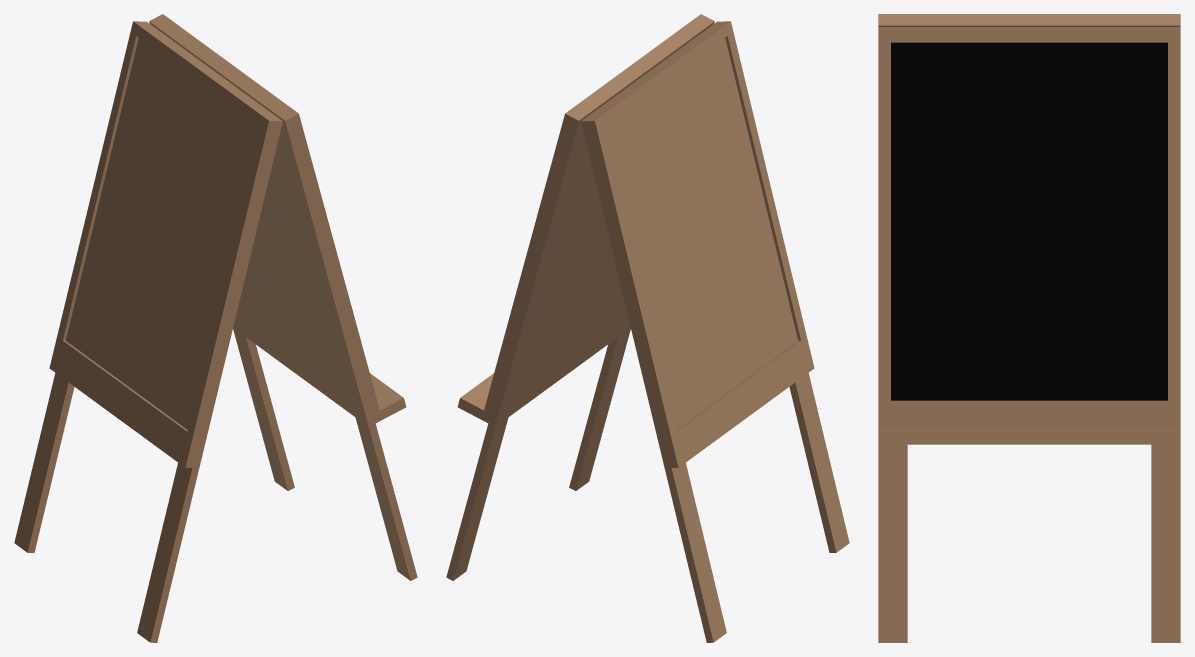
The model's file is Blackboard_Small.fbx.
The picture shows the model from 3 angles, left to right: view 1: azimuth 30°, elevation 25°; view 2: azimuth 150°, elevation 25°; view 3: azimuth 270°, elevation 25°; orthographic projection. The views are drawn at different scales.
Visible parts, largest first — view 1: Cube.007; view 2: Cube.007; view 3: Cube.007.
Boxes of the visible parts, box(x1,y1,x2,y2) form: Cube.007: box(14, 14, 417, 642); Cube.007: box(446, 14, 849, 642); Cube.007: box(878, 14, 1180, 642).
Size of the model in its own units: 269 by 476 by 237.
